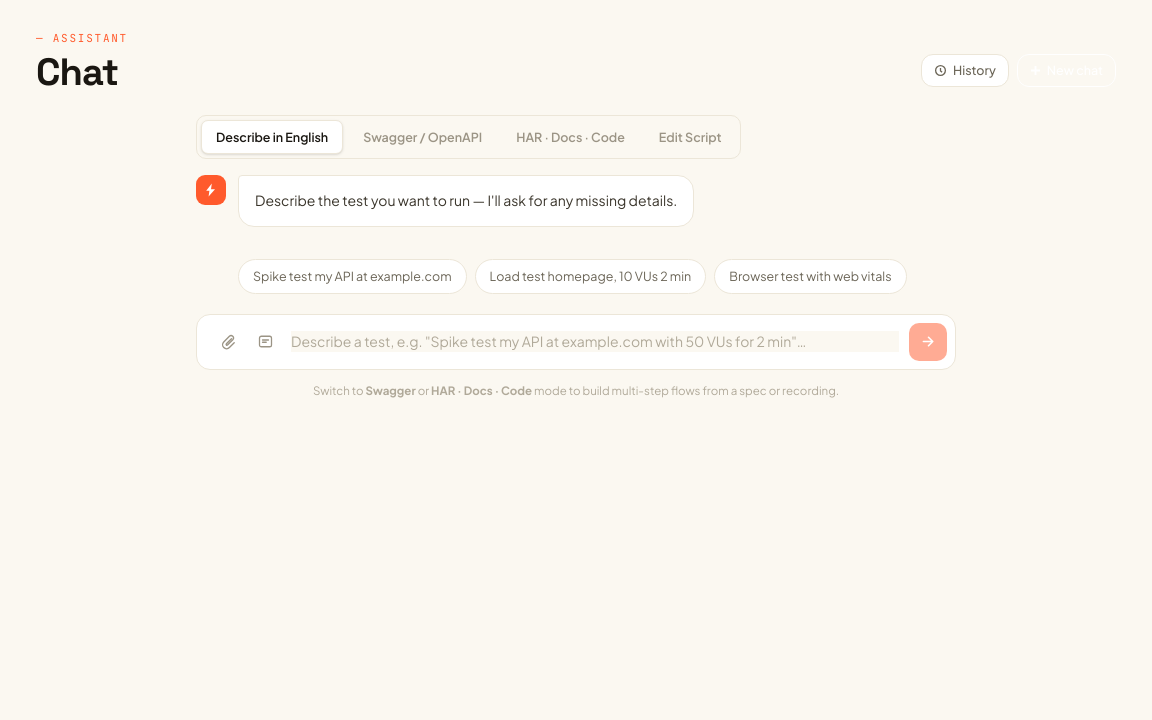
Test: ChatPage › dismisses the preview card when Keep chatting is clicked
Replace the text in the field with placeholder "Describe a test" with "Load test https://api.example.com" at [595, 342], box x1=291 y1=331 x2=899 y2=352
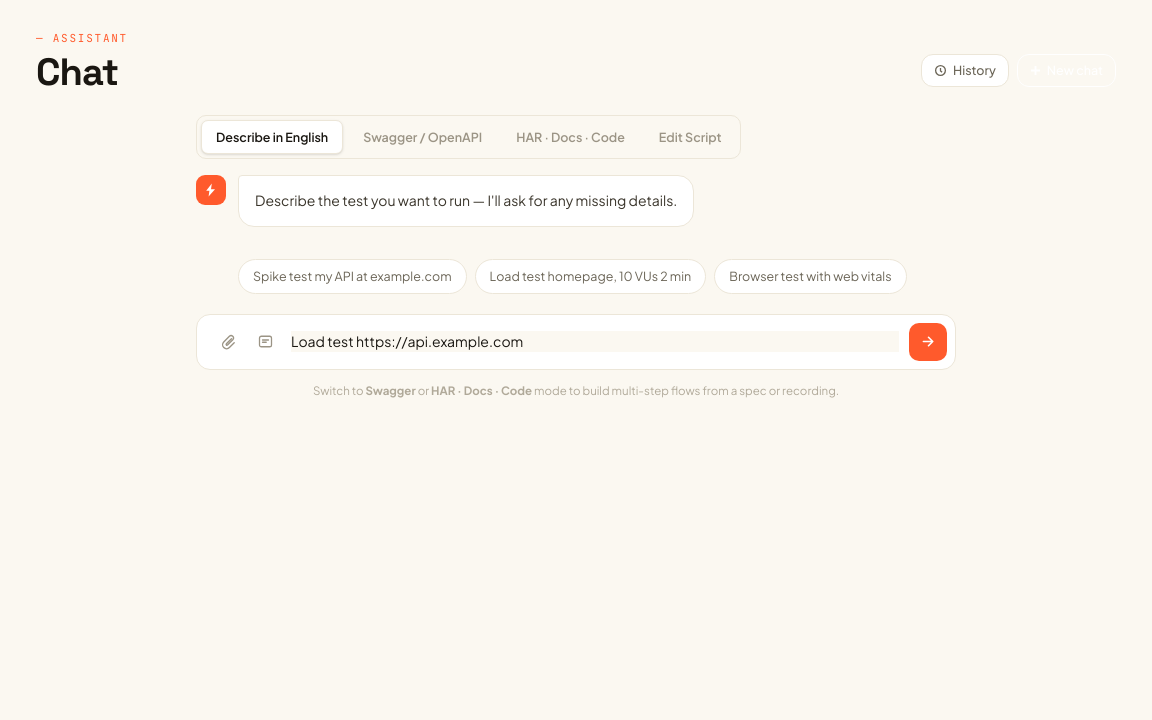
Click the button named "send" at [928, 342], box x1=909 y1=323 x2=947 y2=361
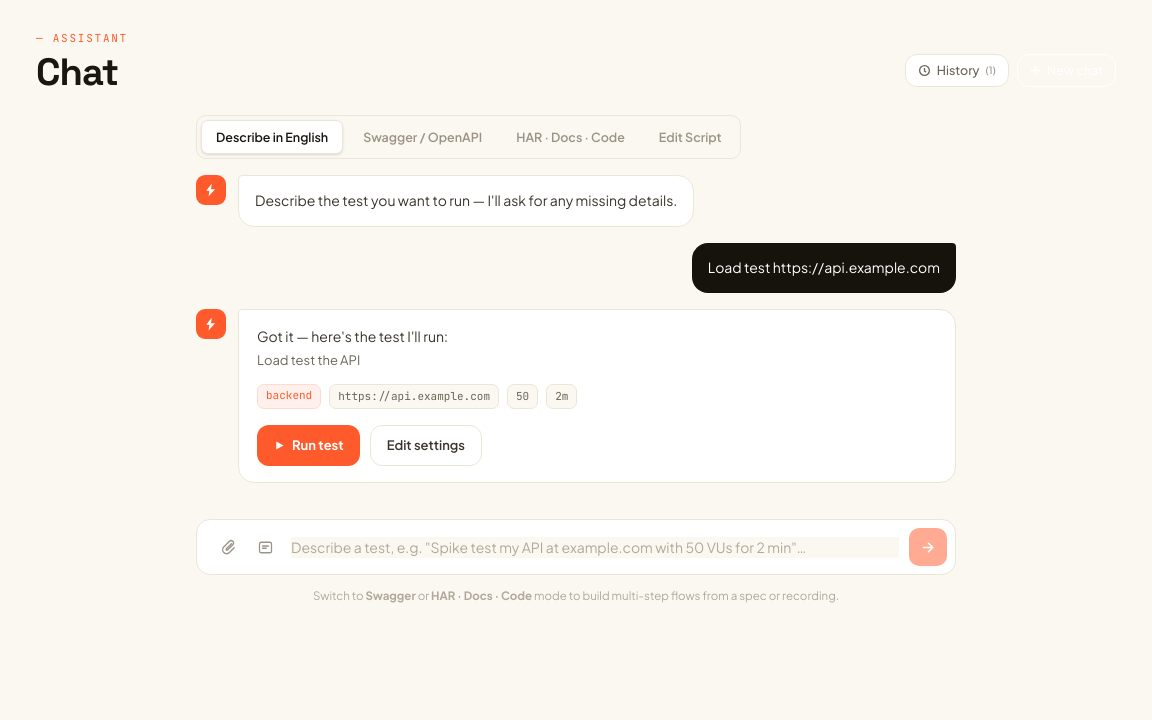
expect the button "Edit settings" is shown: met
Click the button "Edit settings" at [426, 445], box x1=370 y1=425 x2=482 y2=466
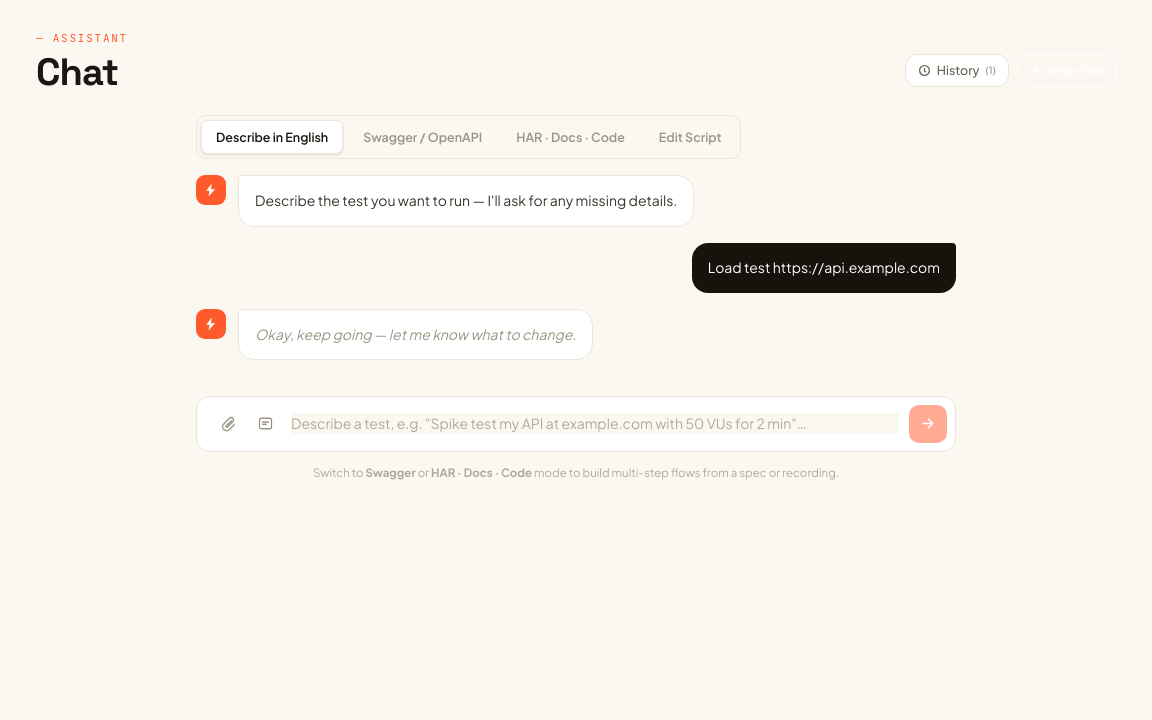
expect the button "Run test" is gone: met
